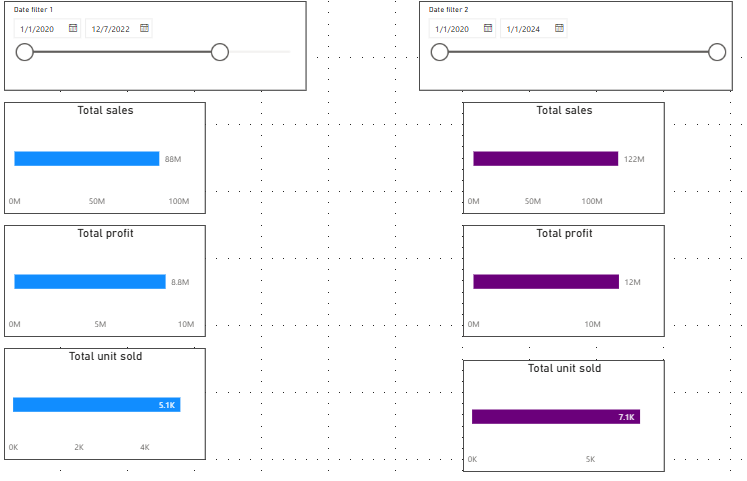

The dashboard page shown, as its layout file describes it:
{"tool":"powerbi","page":{"name":"Edit interactions","canvas":[1280,720],"ordinal":3},"visuals":[{"type":"slicer","fields":{"Values":["fact table.Date (dd/mm/yyyy)"]},"box":[16,0,432,128],"z":0},{"type":"slicer","fields":{"Values":["fact table.Date (dd/mm/yyyy)"]},"box":[592,0,448,128],"z":1000},{"type":"barChart","title":"Total sales","fields":{"Y":["Sum(fact table.Net sales)"]},"box":[16,160,288,160],"z":2000},{"type":"barChart","title":"Total profit","fields":{"Y":["Sum(fact table.profit)"]},"box":[16,336,288,160],"z":3000},{"type":"barChart","title":"Total unit sold","fields":{"Y":["Sum(fact table.Units Sold)"]},"box":[16,512,288,160],"z":4000},{"type":"barChart","title":"Total sales","fields":{"Y":["Sum(fact table.Net sales)"]},"box":[672,144,288,160],"z":5000},{"type":"barChart","title":"Total profit","fields":{"Y":["Sum(fact table.profit)"]},"box":[672,336,288,160],"z":6000},{"type":"barChart","title":"Total unit sold","fields":{"Y":["Sum(fact table.Units Sold)"]},"box":[672,528,288,160],"z":7000}]}

Visuals, with their boxes on the page's 1280x720 design canvas (x1, y1, x2, y2). These are canvas units, not pixel positions in the 747x481 screenshot, which may show the page scaled, cropped or inside an application window:
slicer - fact table.Date (dd/mm/yyyy): box=[16, 0, 448, 128]
slicer - fact table.Date (dd/mm/yyyy): box=[592, 0, 1040, 128]
"Total sales" barChart: box=[16, 160, 304, 320]
"Total profit" barChart: box=[16, 336, 304, 496]
"Total unit sold" barChart: box=[16, 512, 304, 672]
"Total sales" barChart: box=[672, 144, 960, 304]
"Total profit" barChart: box=[672, 336, 960, 496]
"Total unit sold" barChart: box=[672, 528, 960, 688]
